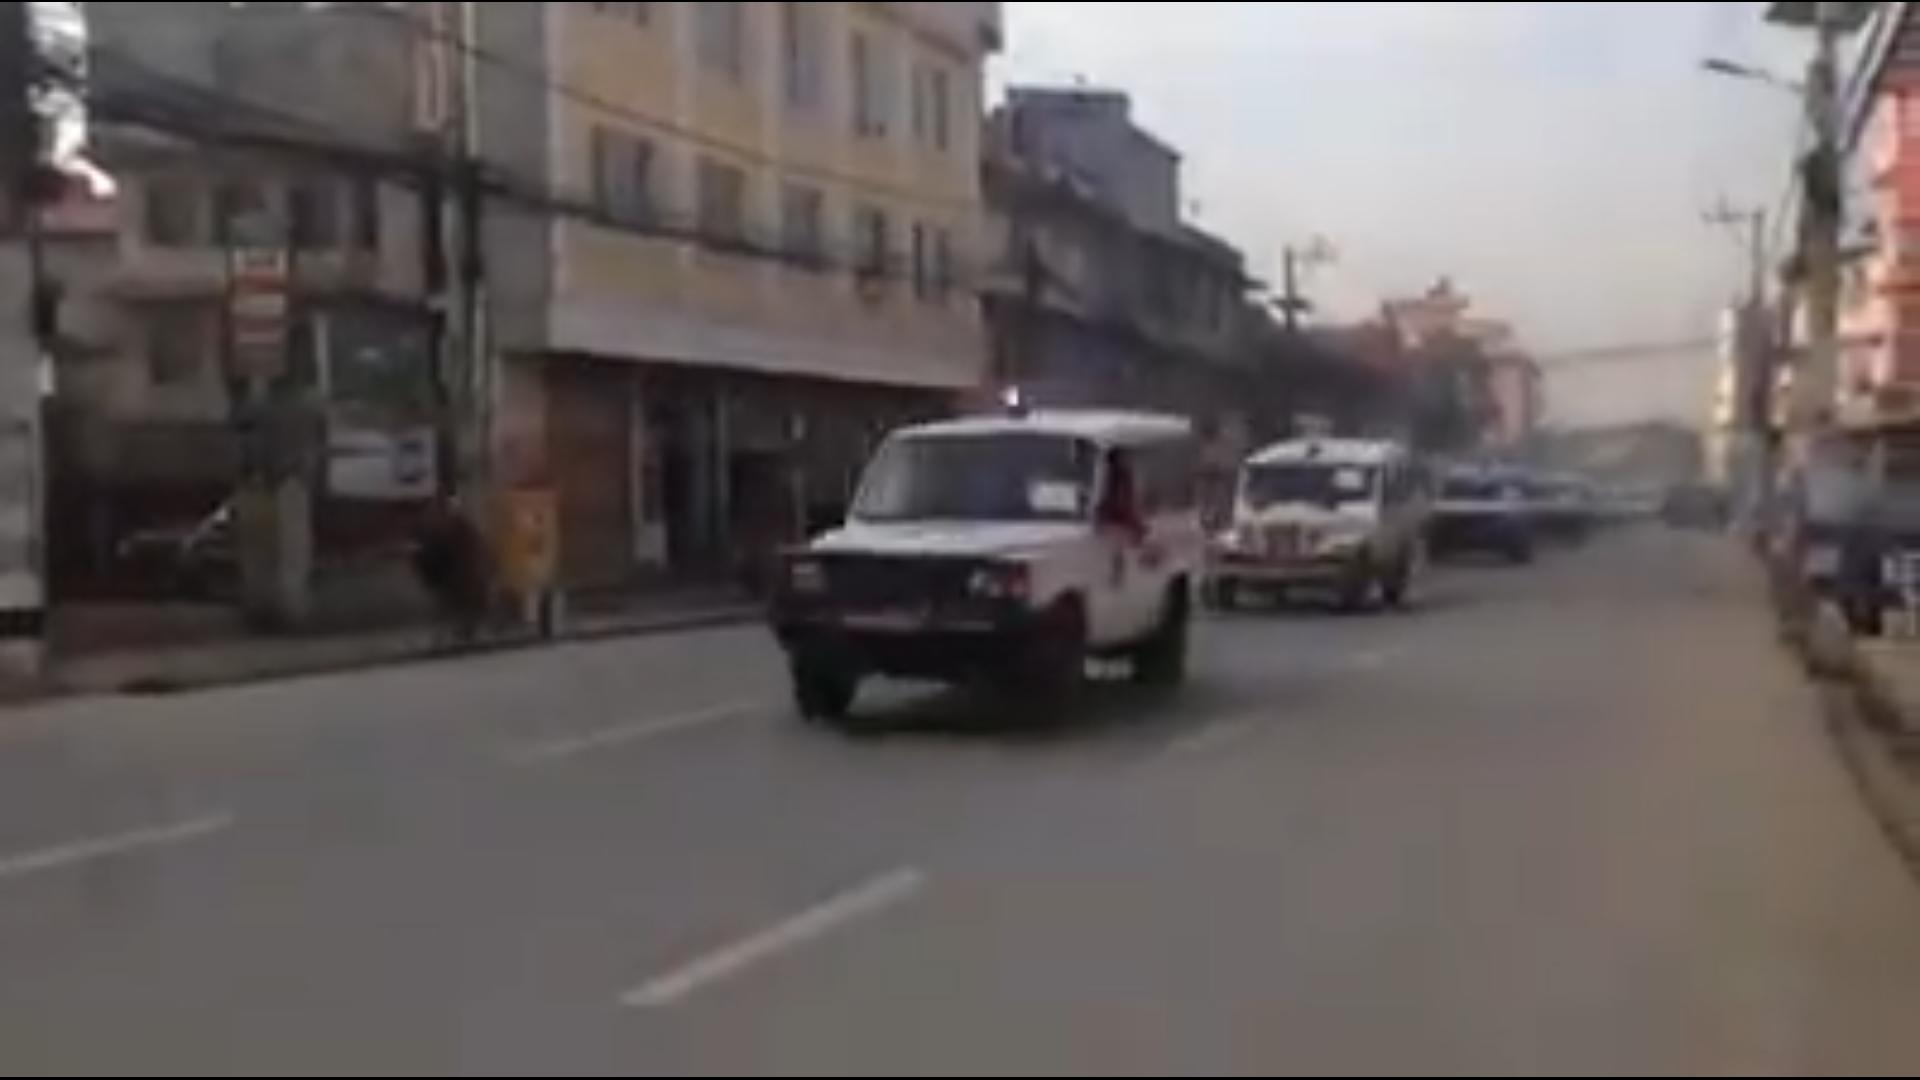ambulance: (769, 388, 1215, 737)
